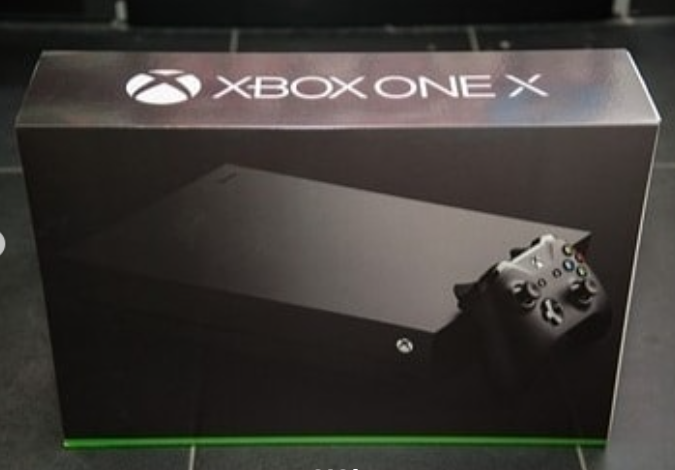gamingconsole: (461, 237, 611, 388)
